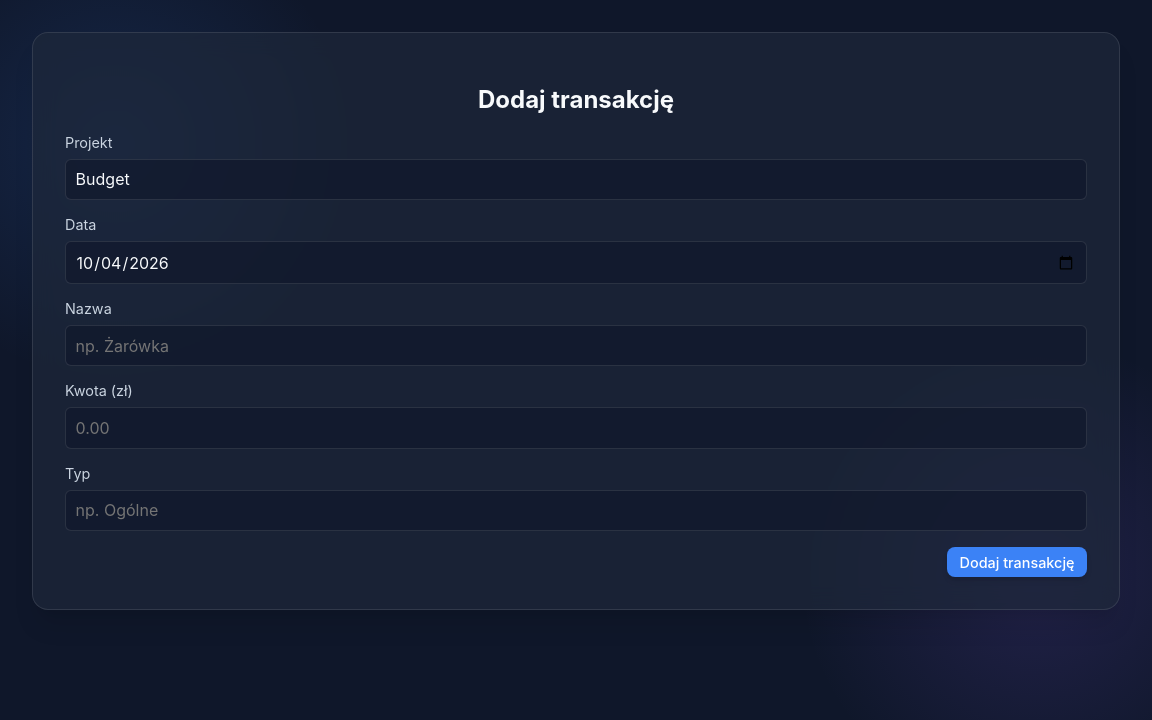
Test: TransactionForm "remember last entry" memory › resets to the default project and today when the setting is disabled
Replace the text in the field labelled "Projekt" with "Vacation" at (576, 179), box top-left (65, 159), bottom-right (1087, 200)
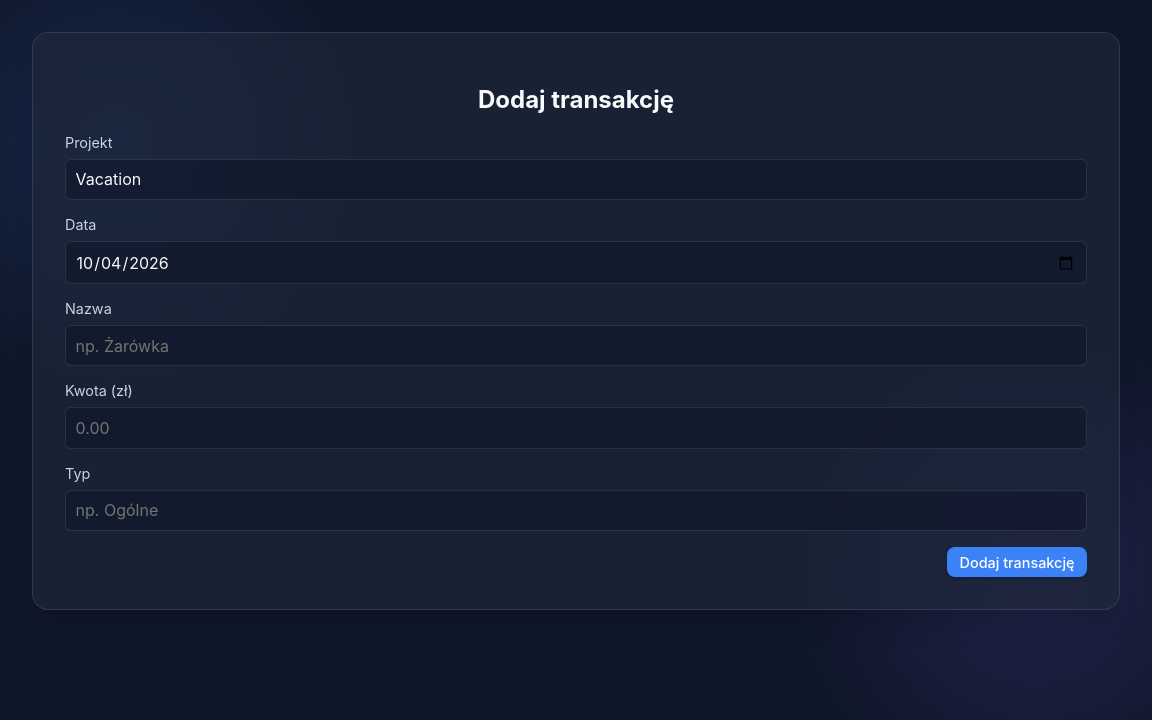
Type "2020-01-15" into the date field with id "date".
click(576, 263); type("2020-01-15")  # box top-left (65, 241), bottom-right (1087, 284)
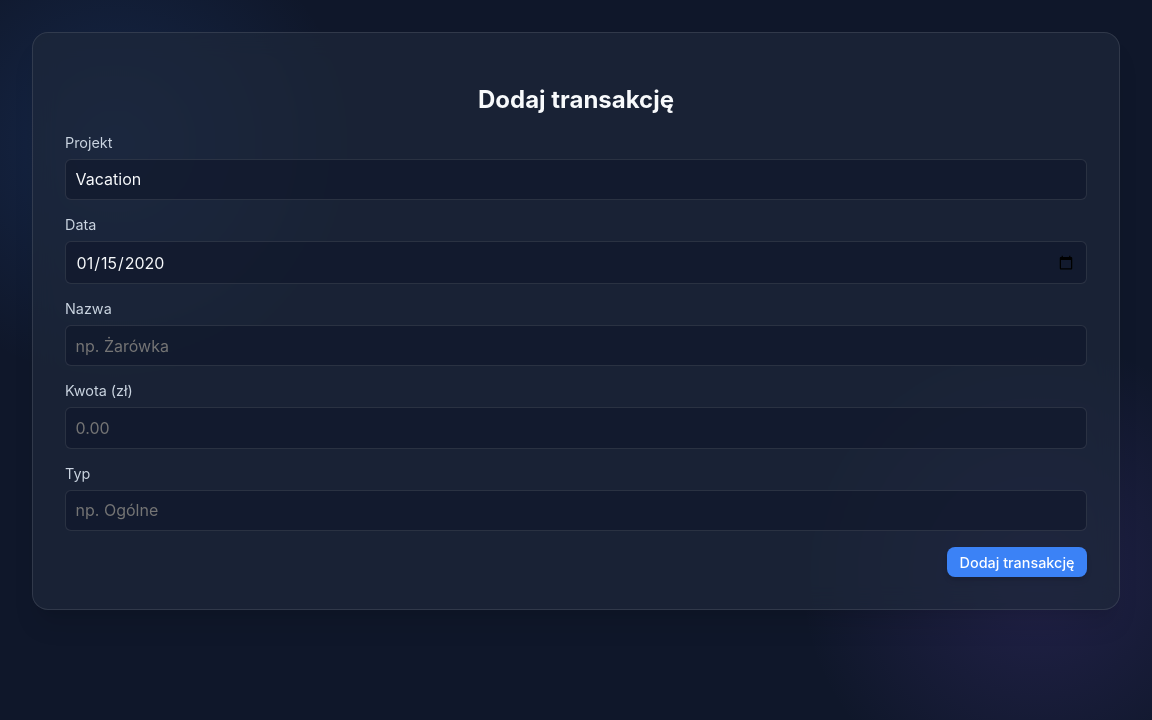
Type "Hotel" into the field with id "name".
click(576, 346); type("Hotel")  # box top-left (65, 325), bottom-right (1087, 366)
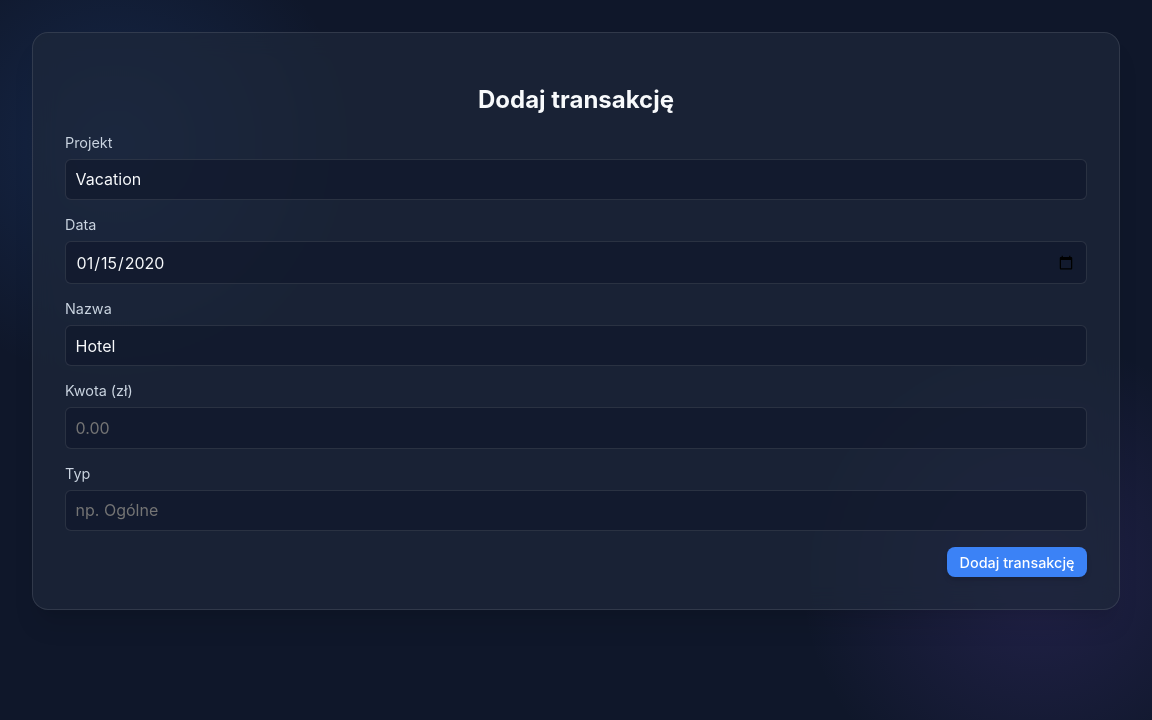
Type "100" into the number field with id "amount".
click(576, 428); type("100")  # box top-left (65, 407), bottom-right (1087, 449)
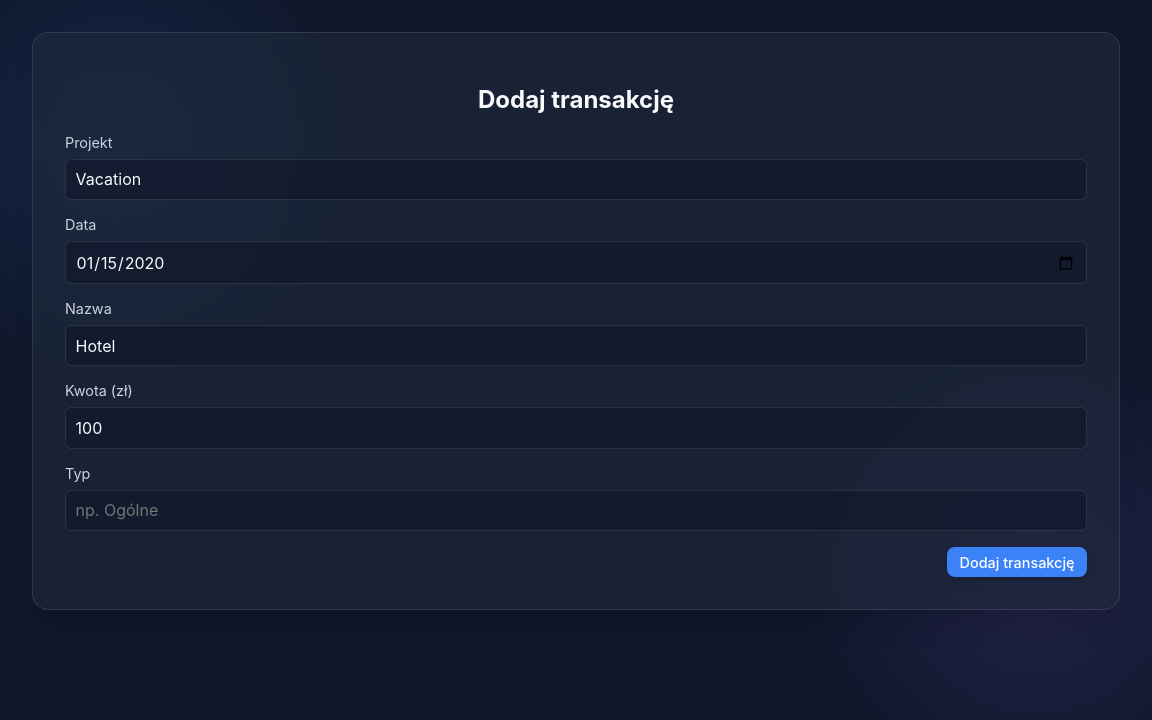
Type "Travel" into the field with id "type".
click(576, 510); type("Travel")  # box top-left (65, 490), bottom-right (1087, 531)
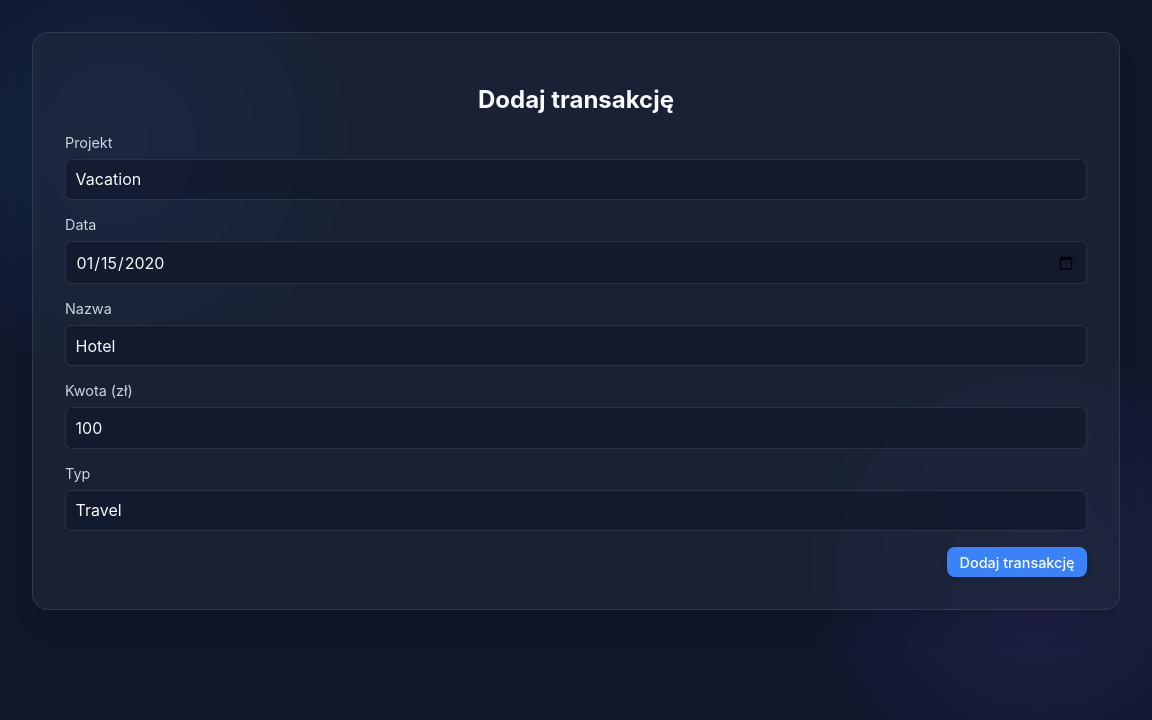
Submit the form
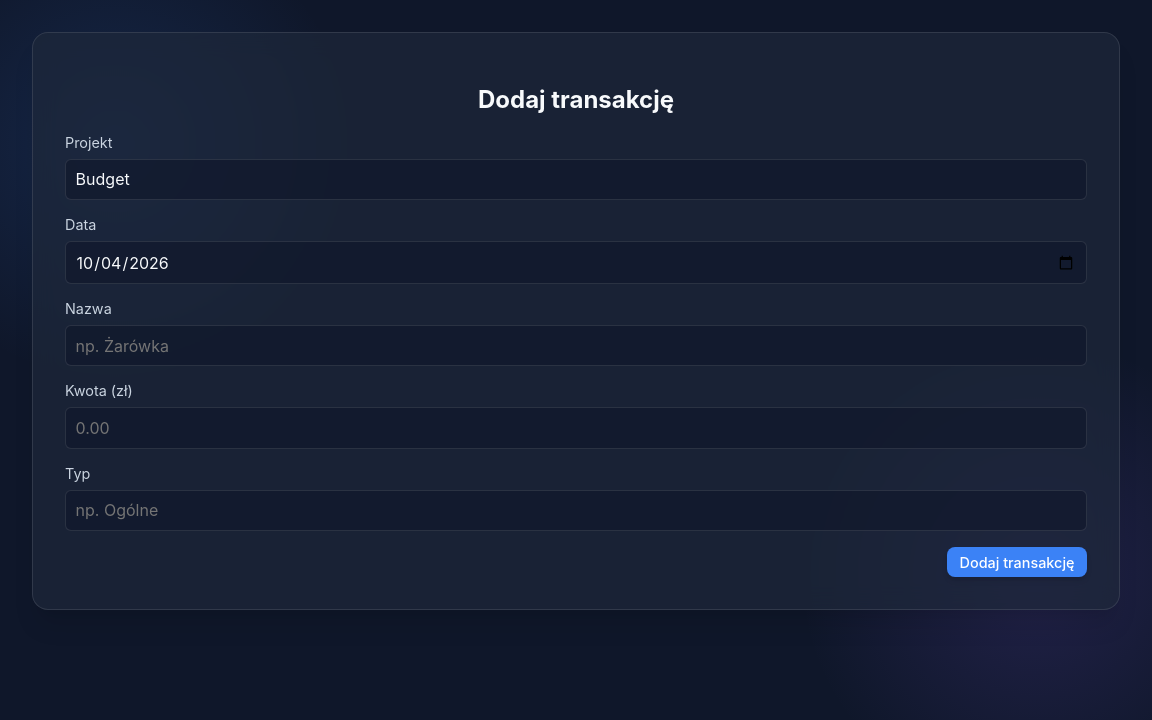
Expected: the field labelled "Projekt" holds "Budget", top-left (65, 159), bottom-right (1087, 200)
